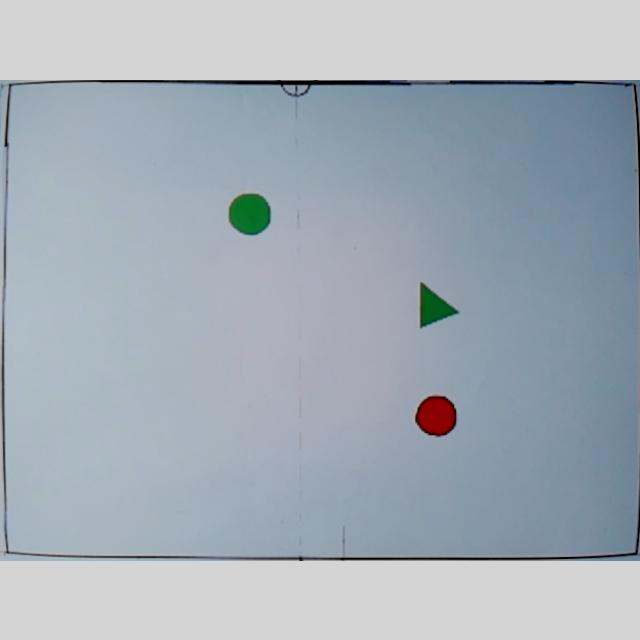greenCircle: (227, 192, 270, 234)
greenTriangle: (412, 281, 458, 327)
redCircle: (415, 393, 457, 437)
